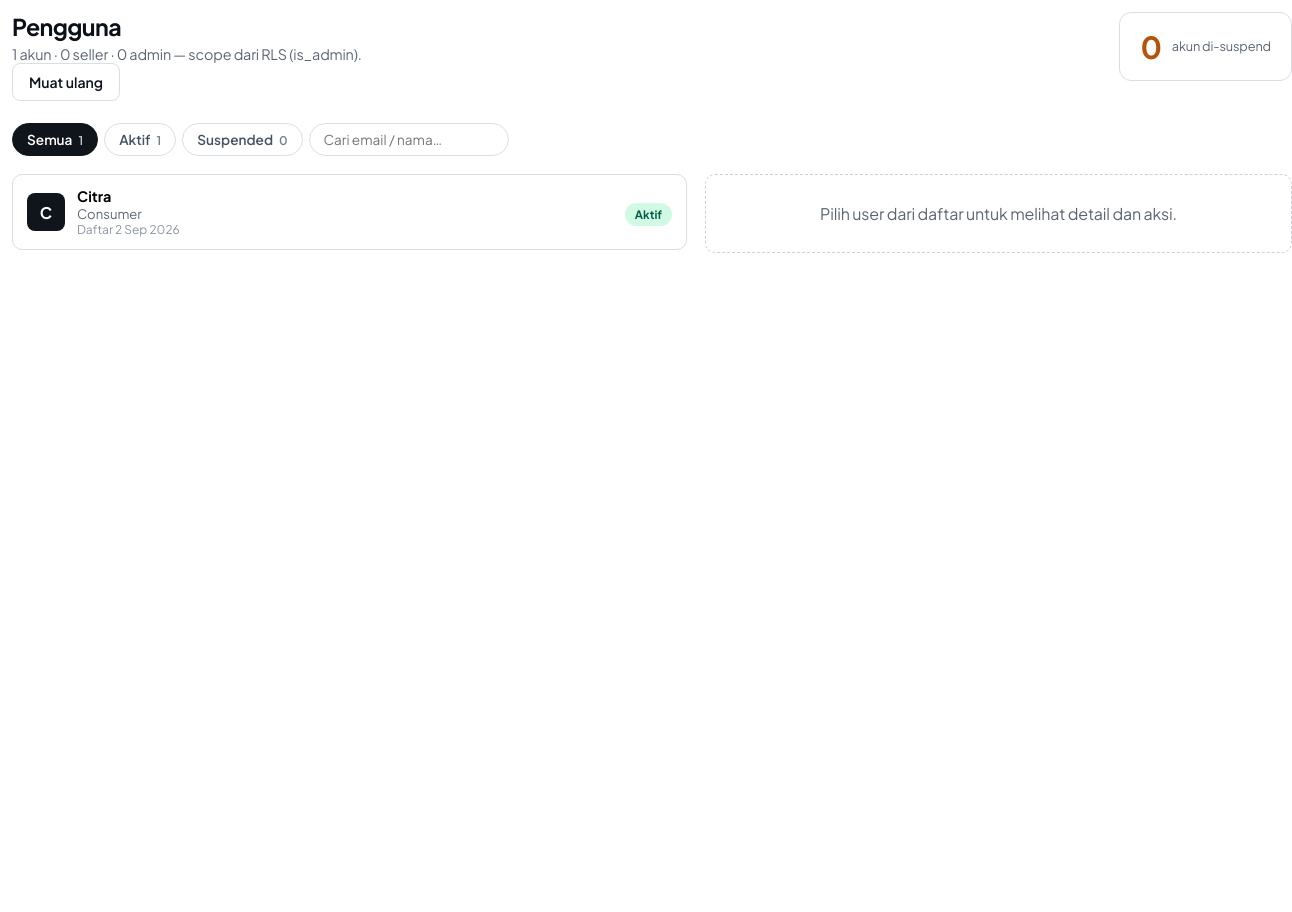
AdminUsers › klik ganda pada konfirmasi role hanya mengirim satu RPC dan memakai label role
Click the text "Citra". click: [94, 196]
box: x1=77 y1=187 x2=111 y2=205
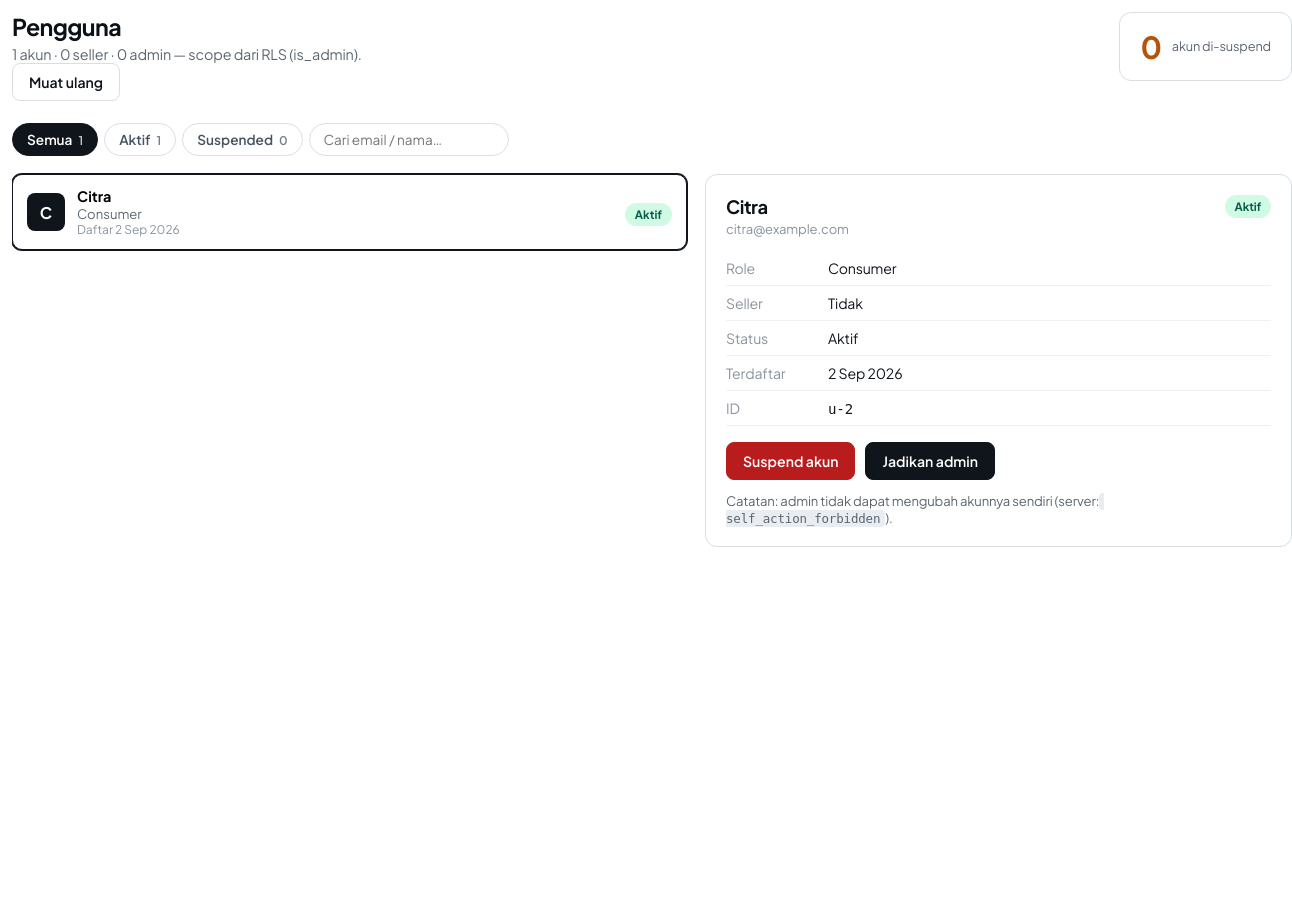
Click the button "Jadikan admin". click: [930, 461]
box: x1=865 y1=442 x2=995 y2=480
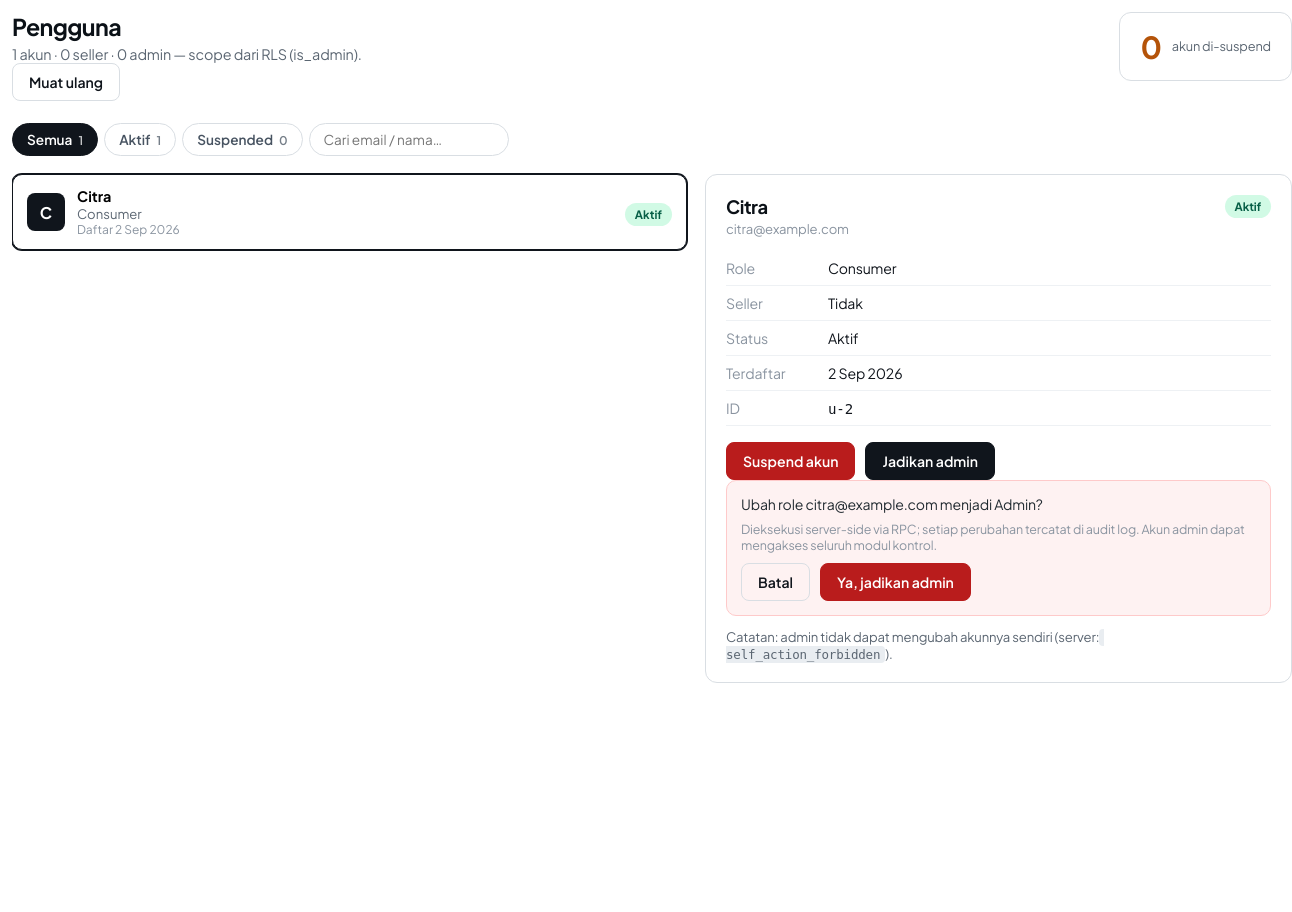
Click the button "Ya, jadikan admin". click: [895, 582]
box: x1=820 y1=563 x2=971 y2=601
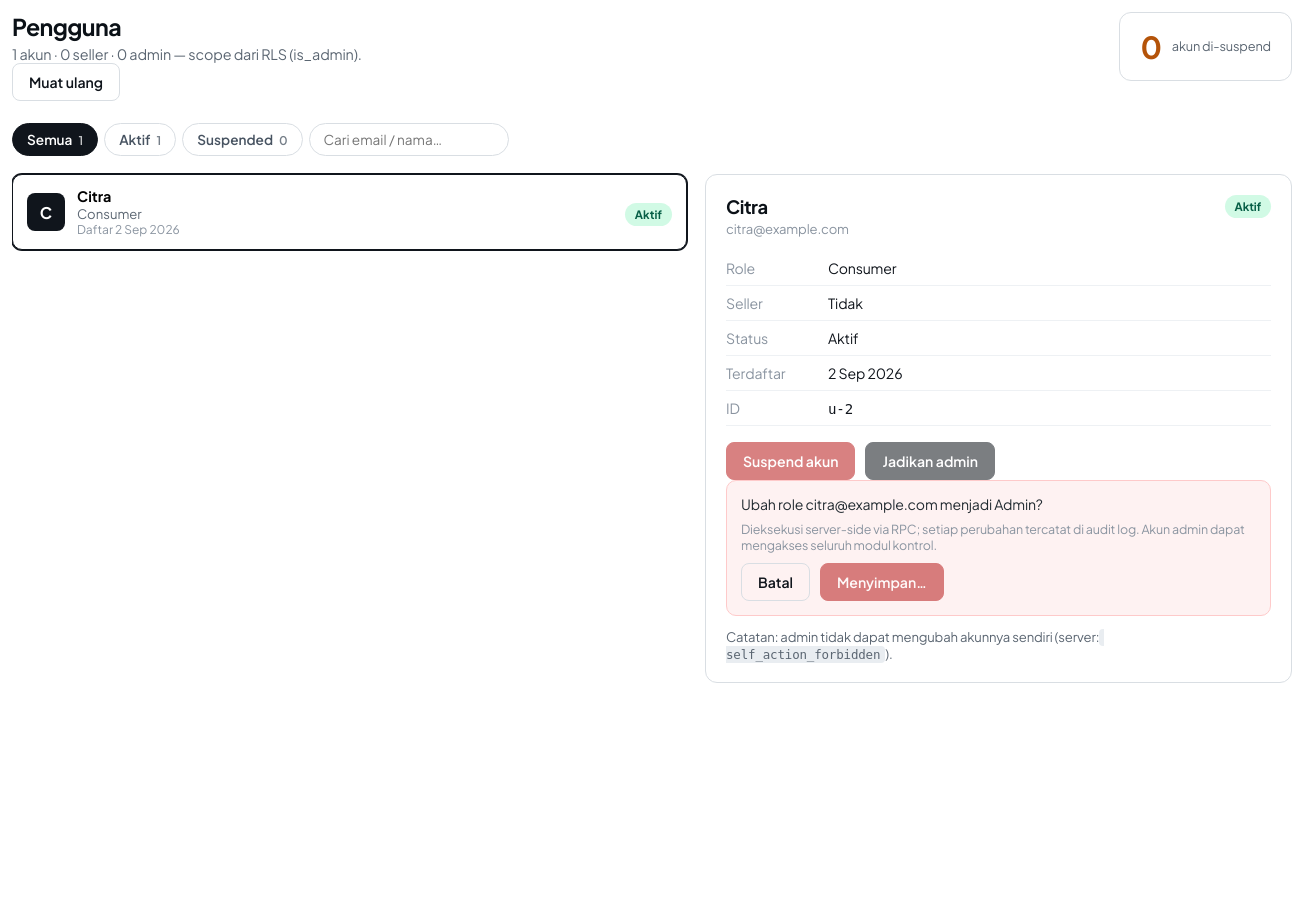
Click the button named "Ya, jadikan admin". click: [882, 582]
box: x1=820 y1=563 x2=944 y2=601
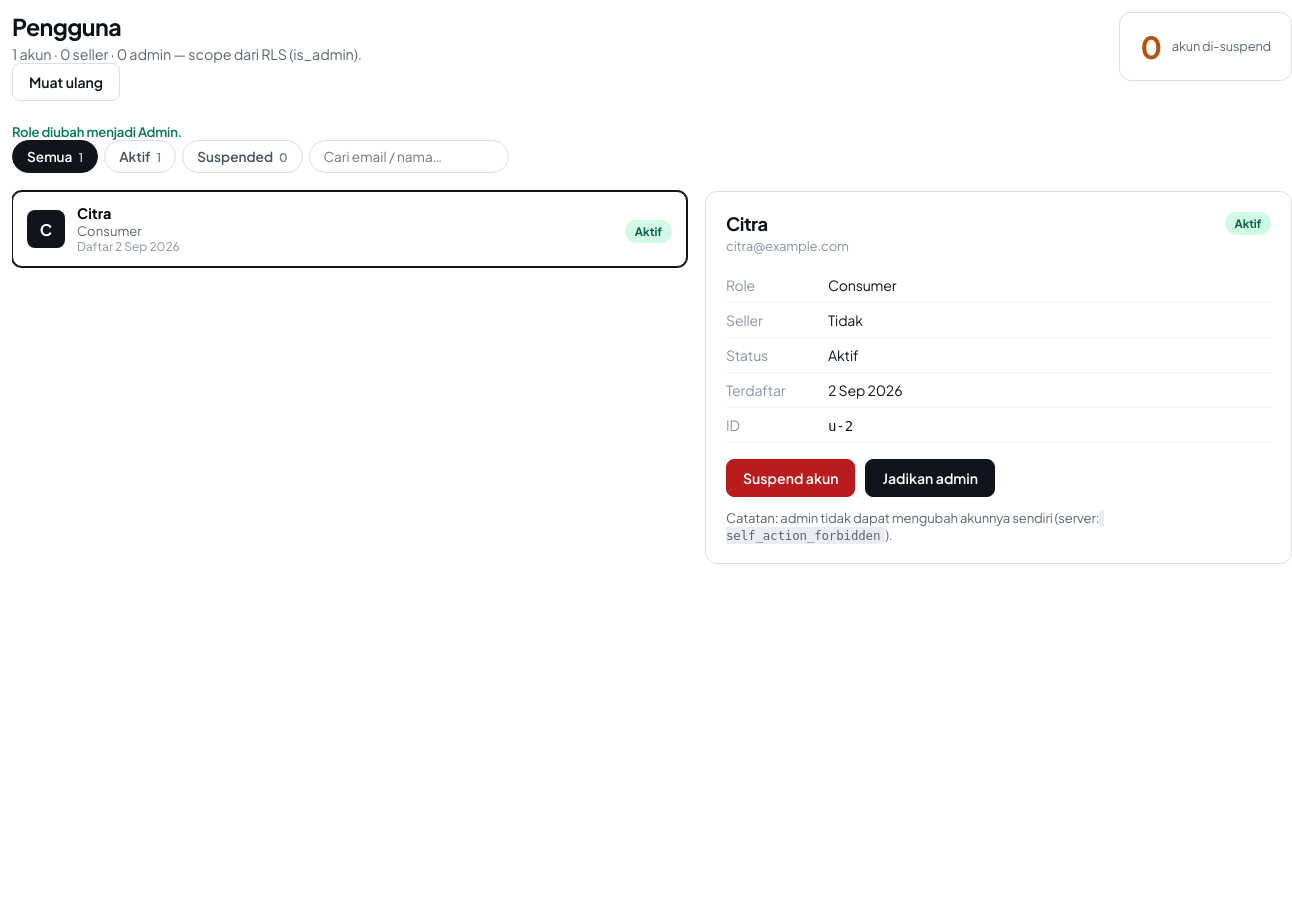
Check: the text "Role diubah menjadi Admin." is shown, box x1=12 y1=123 x2=182 y2=140
